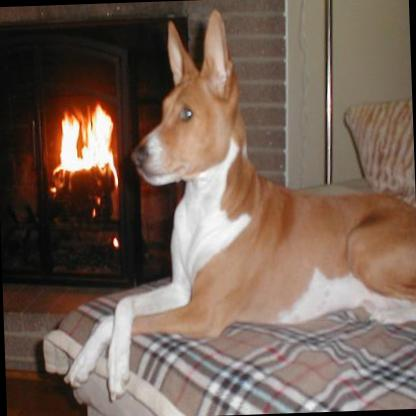basenji: (48, 0, 416, 407)
